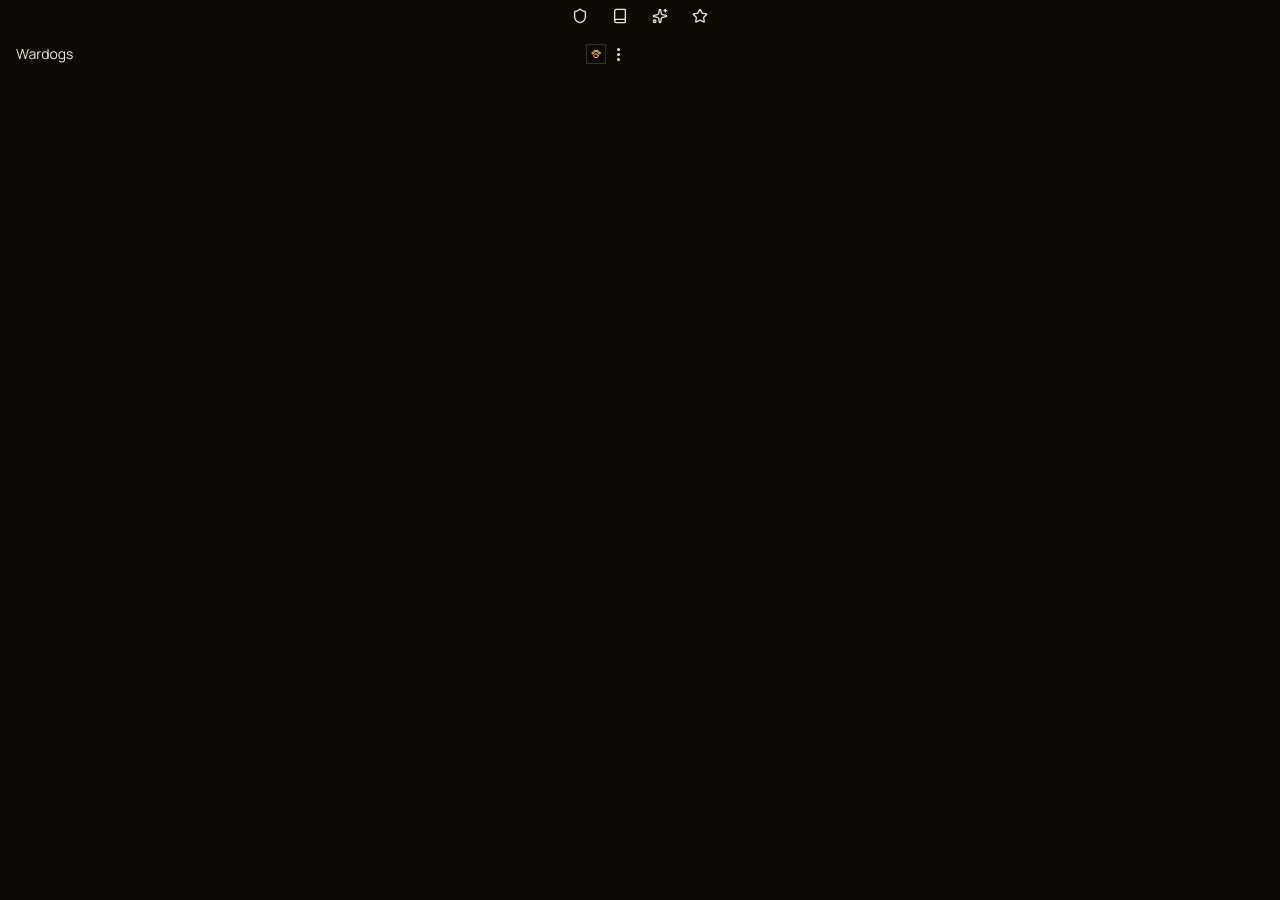
Scenario: recruit from a unit's items › names the unit as the source, with no quantity for a single copy, and keeps its answer
What coordinates should you click on to do the following:
click the button named "Wardogs: Recruit as henchmen"
I would click on:
 (596, 54)
Its box is [586,44,606,64].
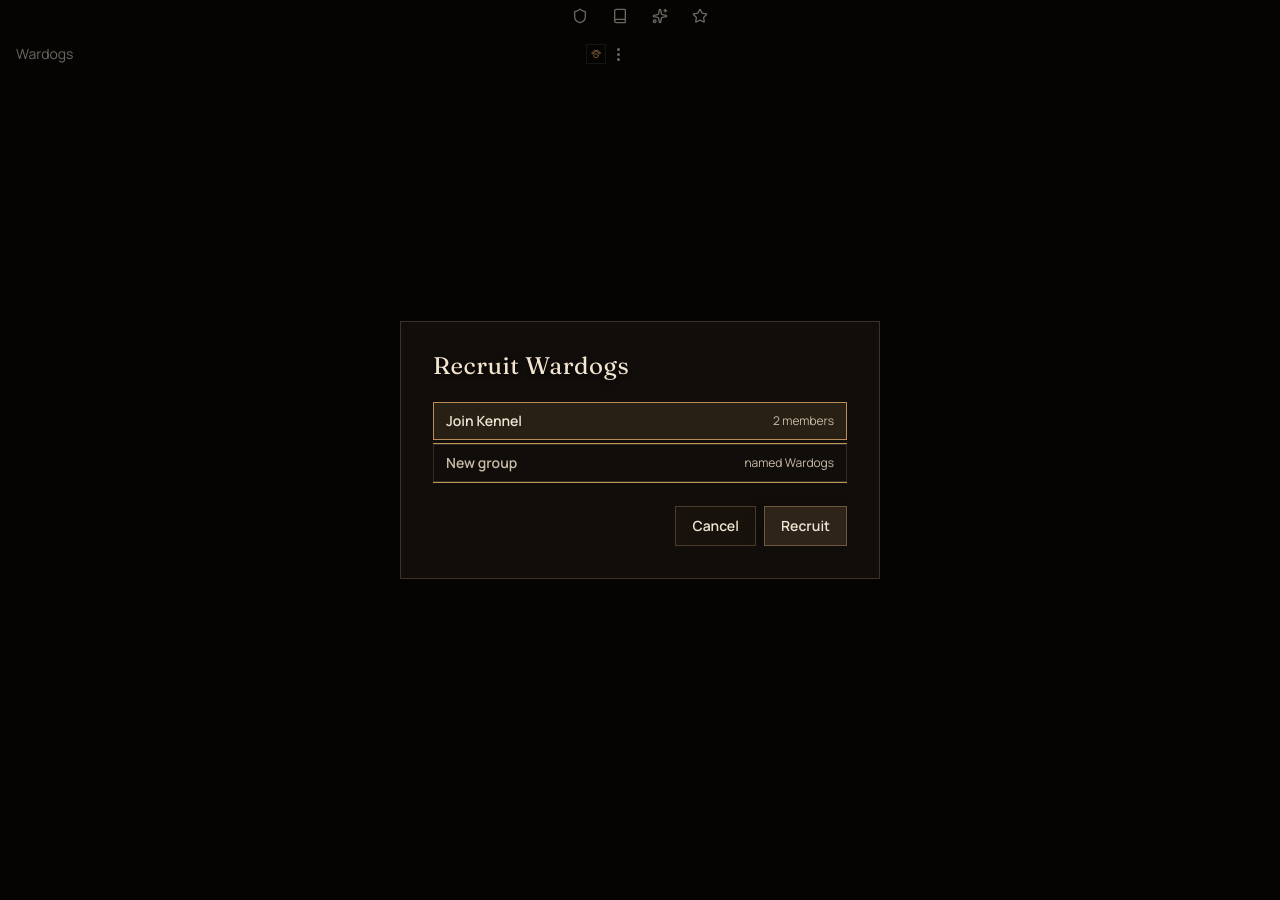
Result: the radio button labelled "Join Kennel 2 members" is shown at [433,402,847,440]
What coordinates should you click on to do the following:
click the button "Recruit"
I would click on:
 (805, 526)
Its box is [764,506,847,546].
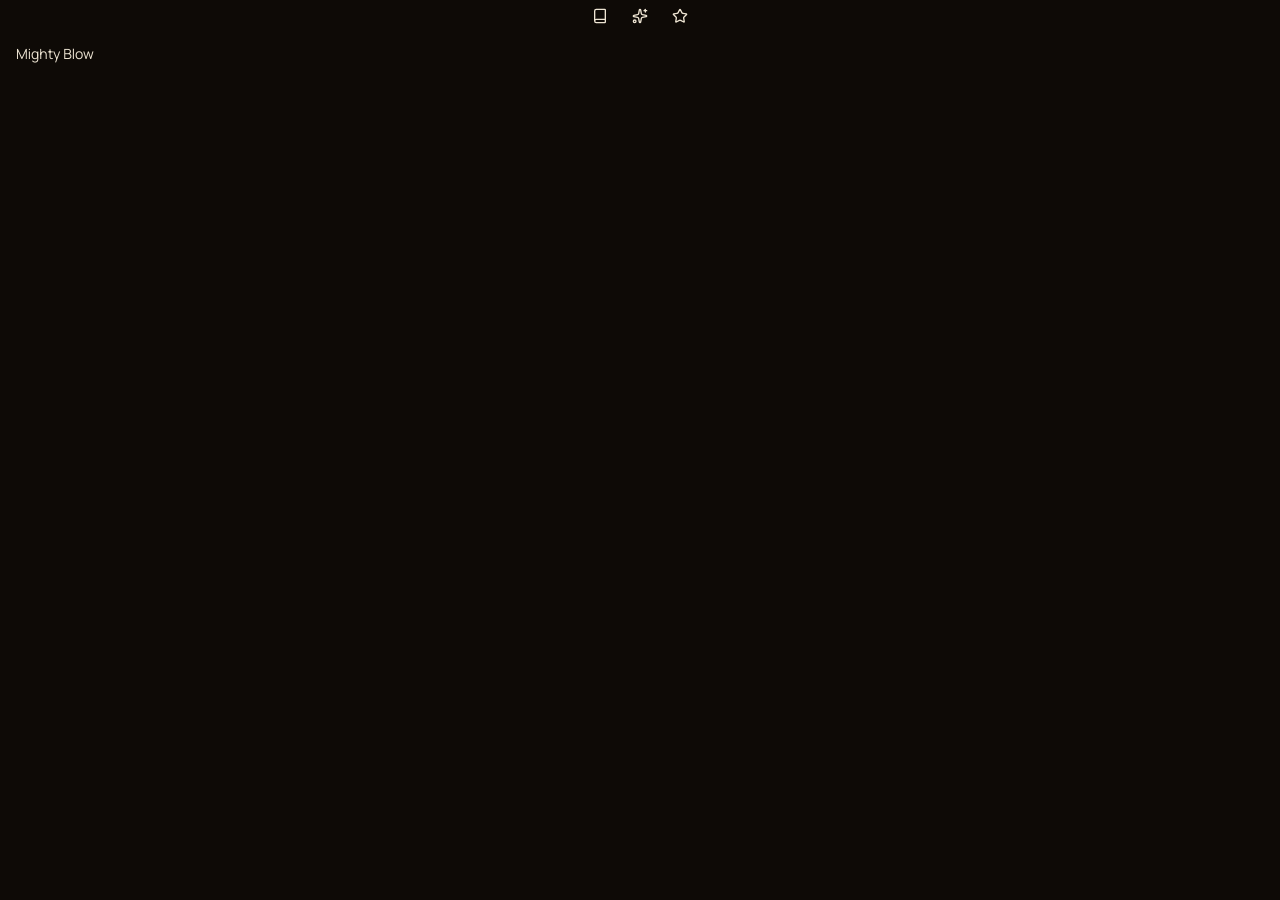
Result: the dialog is gone
